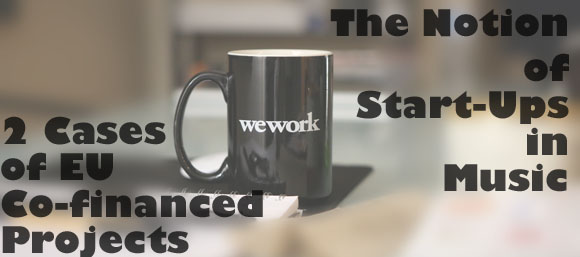wework: (237, 109, 322, 134)
